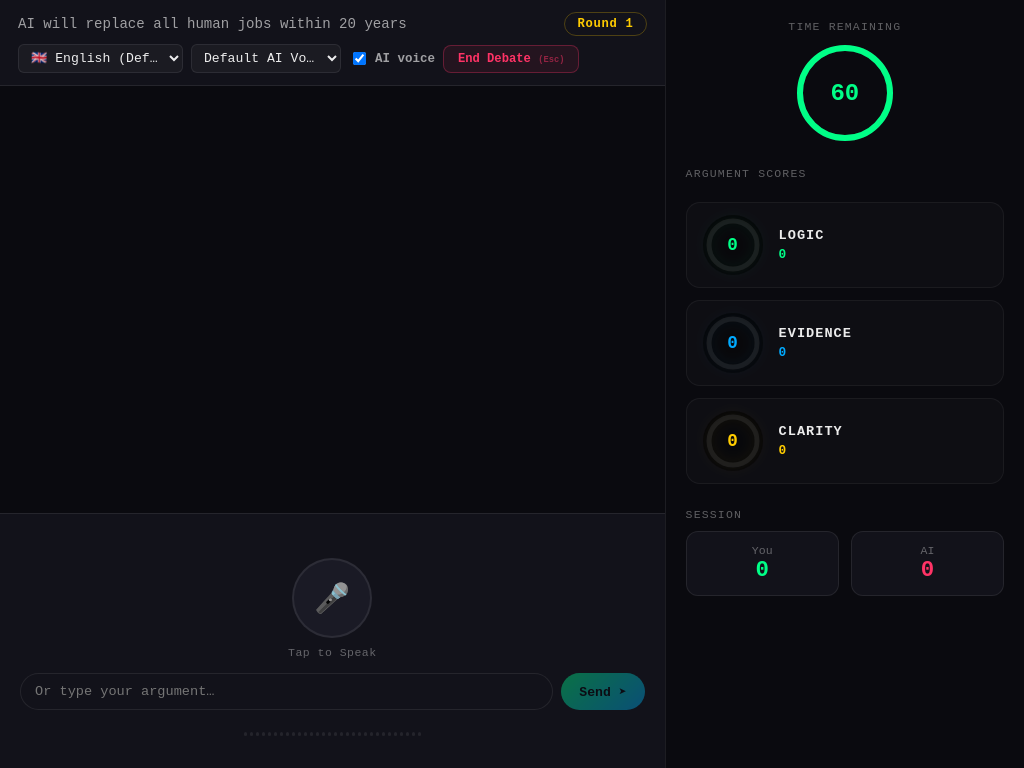
Test case: DebateRoomPage topbar controls and end-debate score display › displays Debate Summary score card when debate_ended arrives without judge_verdict
Click the button "End Debate (Esc)" at (511, 58), box [443, 44, 579, 72]
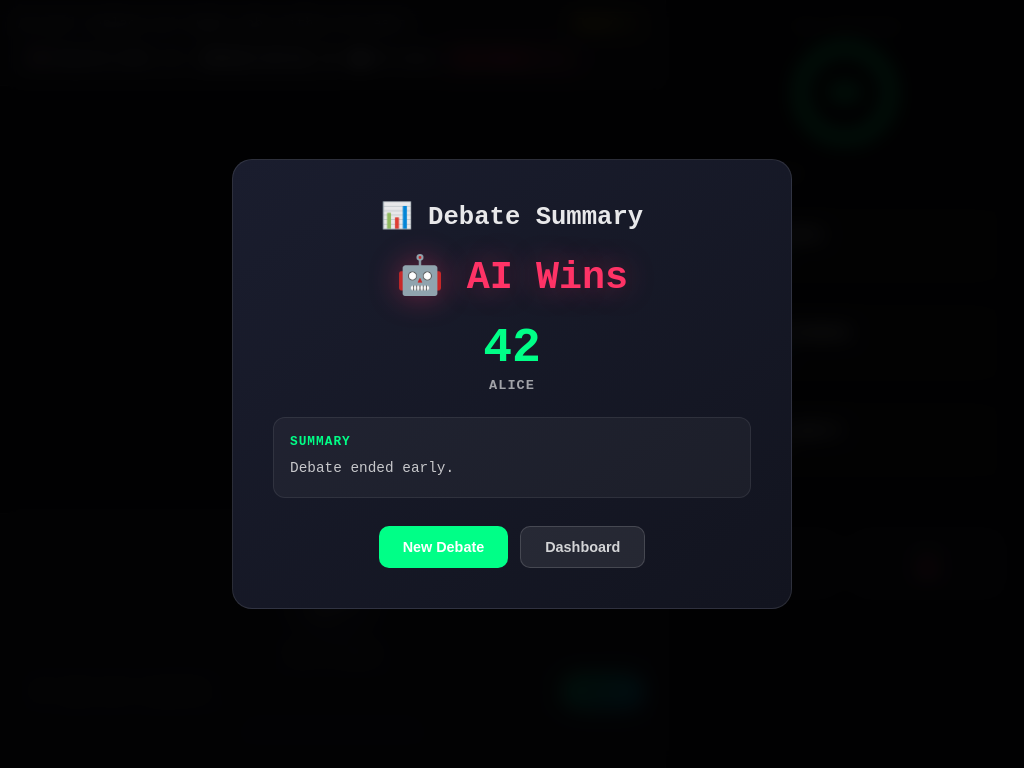
Check: the text "📊 Debate Summary" is shown, box [381, 204, 643, 232]
Check: the text "42" is shown, box [483, 324, 541, 372]
Check: the text "Debate ended early." is shown, box [290, 460, 454, 476]
